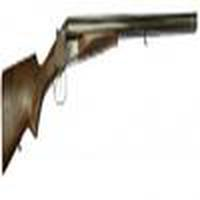gun: (1, 12, 199, 167)
